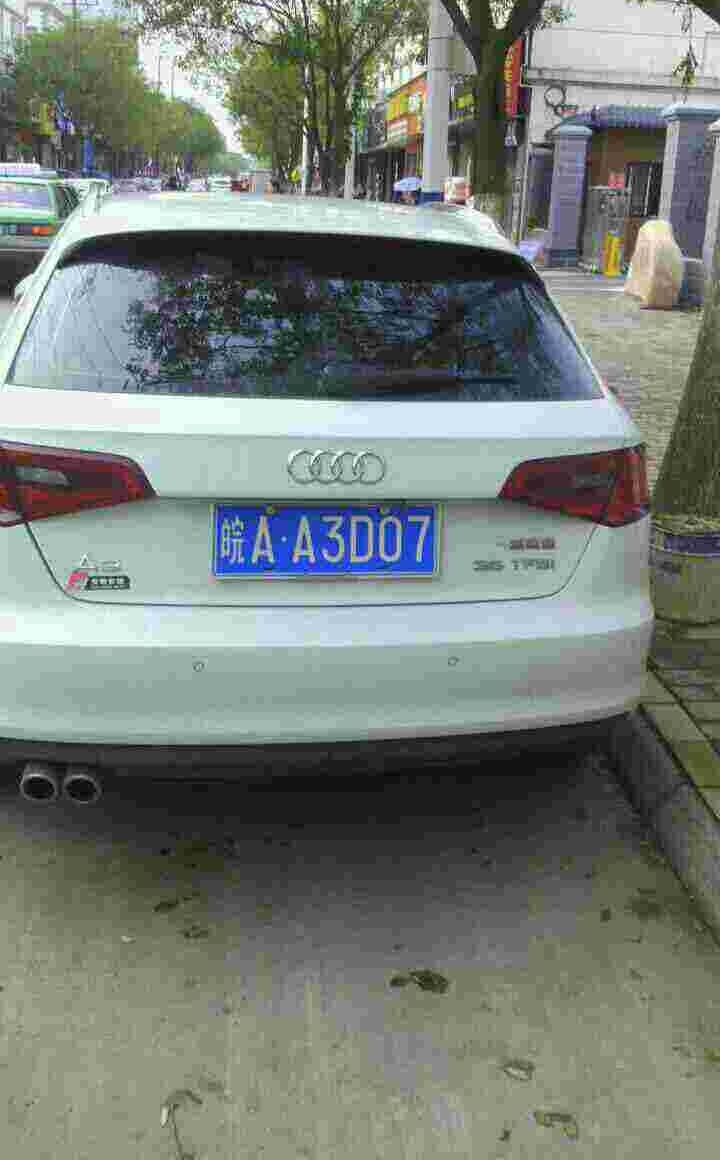license_plate: (212, 502, 446, 574)
